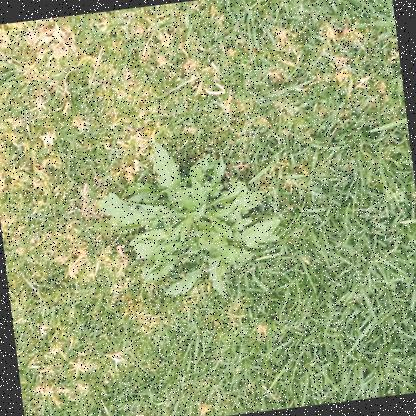Weeds: (82, 127, 291, 315)
